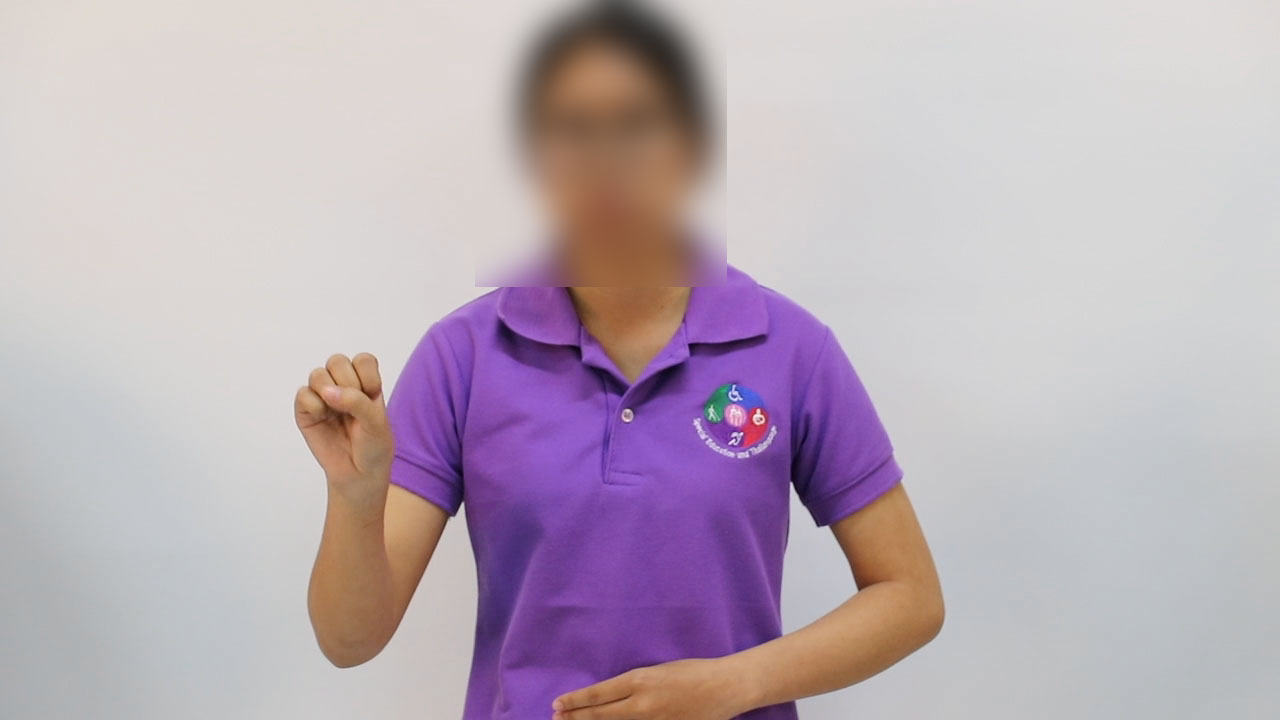sor: (276, 335, 412, 503)
